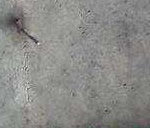Exposed reinforcement: (15, 22, 39, 45)
